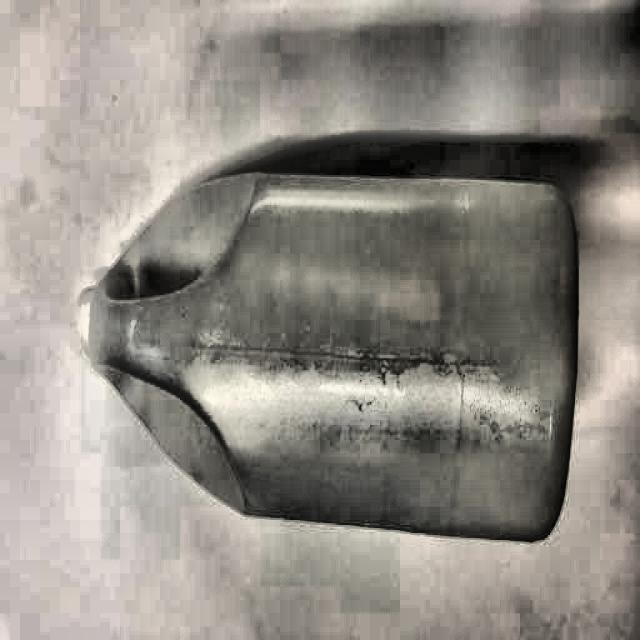plastic: (74, 172, 580, 553)
